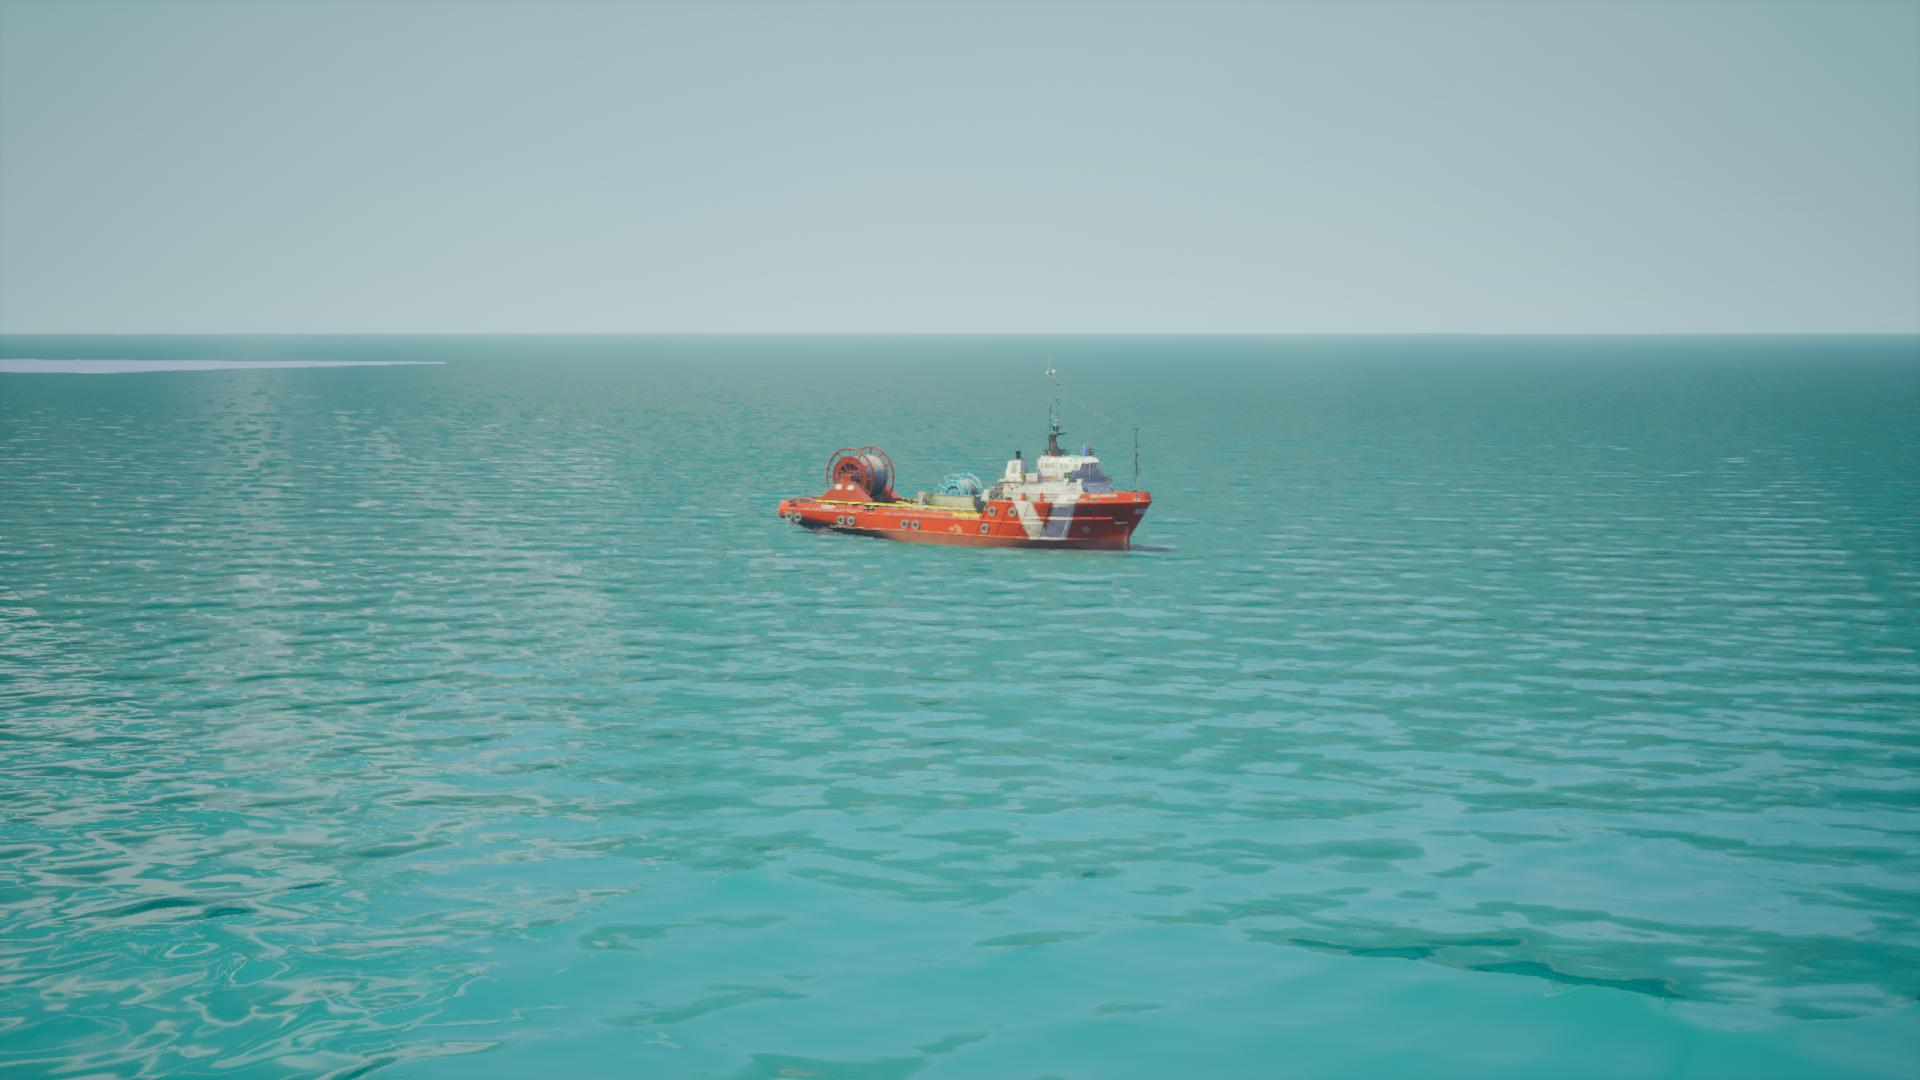Tug Boat: (779, 357, 1155, 555)
